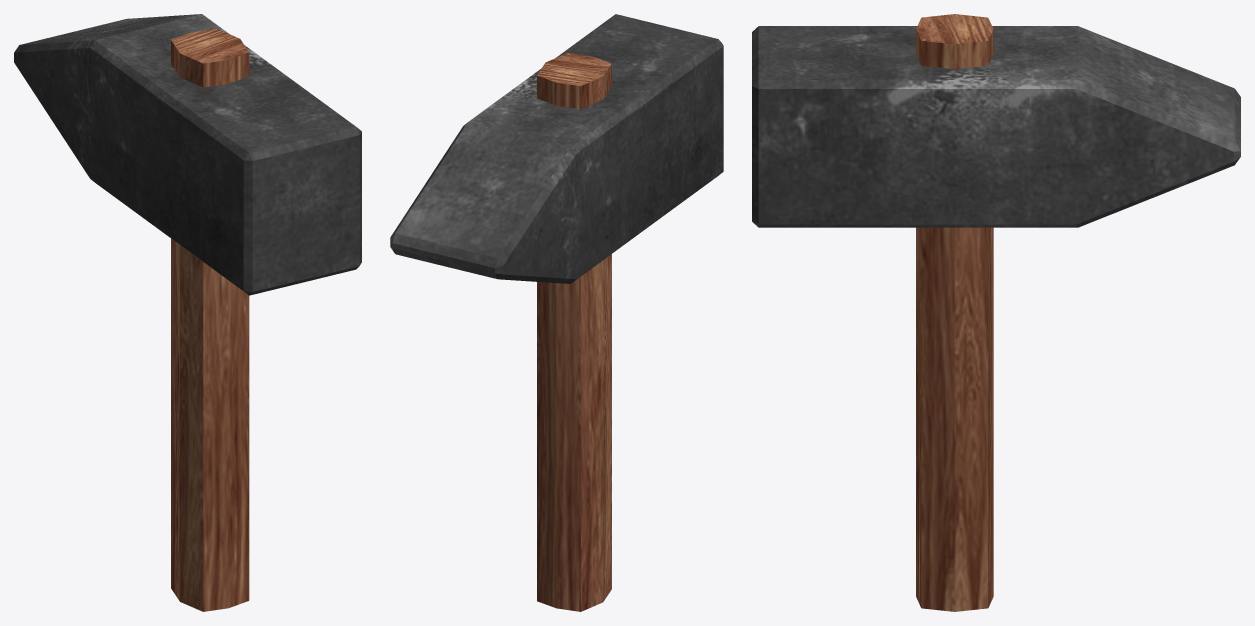
Rendered from SmithHammer.fbx.
3 views of the same model, side by side, from view 1: azimuth 30°, elevation 25°; view 2: azimuth 150°, elevation 25°; view 3: azimuth 270°, elevation 25° (orthographic). The views are drawn at different scales.
Visible parts, largest first — view 1: Cube; view 2: Cube; view 3: Cube.
Boxes of the visible parts, <box> form: Cube: <box>14,14,361,611</box>; Cube: <box>390,14,723,611</box>; Cube: <box>752,14,1240,611</box>.
Bounding box in the file's own units: 0.8678 × 3.84 × 3.
